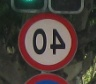Speed limit: (15, 11, 81, 67)
